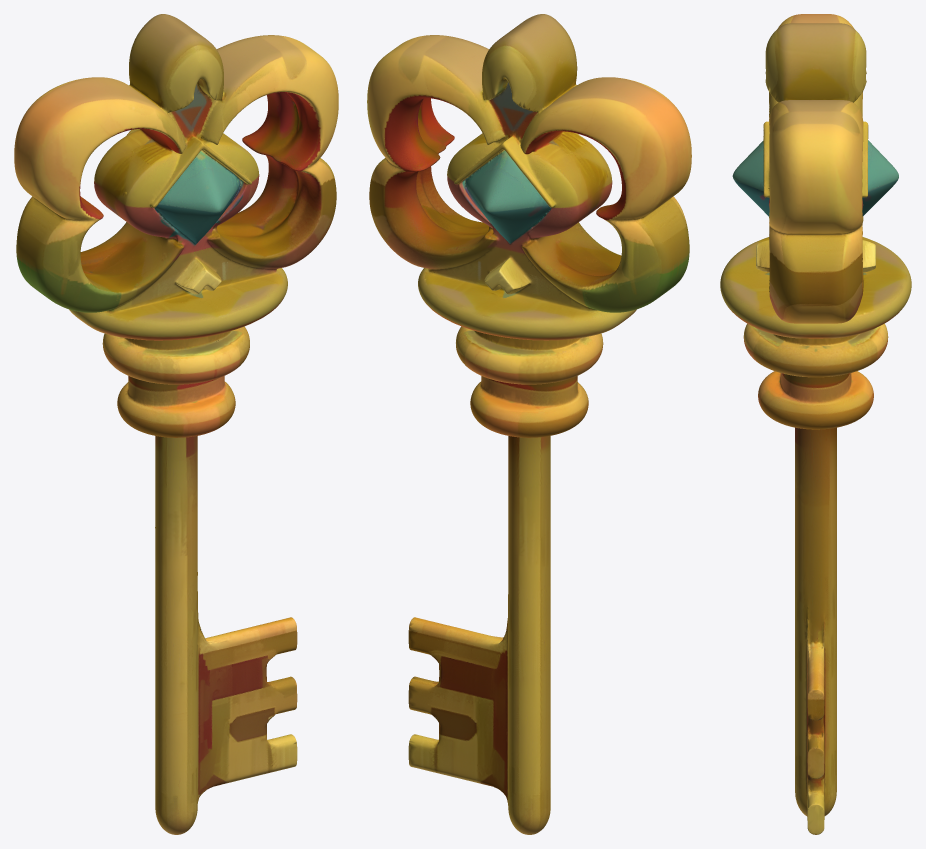
The model's file is Meshy_AI_Golden_Crown_Key_0418183355_texture.fbx.
3 views of the same model, side by side, from view 1: azimuth 30°, elevation 25°; view 2: azimuth 150°, elevation 25°; view 3: azimuth 270°, elevation 25° (orthographic). The views are drawn at different scales.
Parts seen in each view (by area): view 1: Mesh_0; view 2: Mesh_0; view 3: Mesh_0.
Part boxes in pixels (left/top/right/bottom): Mesh_0: left=14, top=14, right=338, bottom=834; Mesh_0: left=367, top=14, right=691, bottom=834; Mesh_0: left=720, top=14, right=911, bottom=834.
Bounding box in the file's own units: 74.85 × 190 × 41.54.
1 material, 1 textured.
